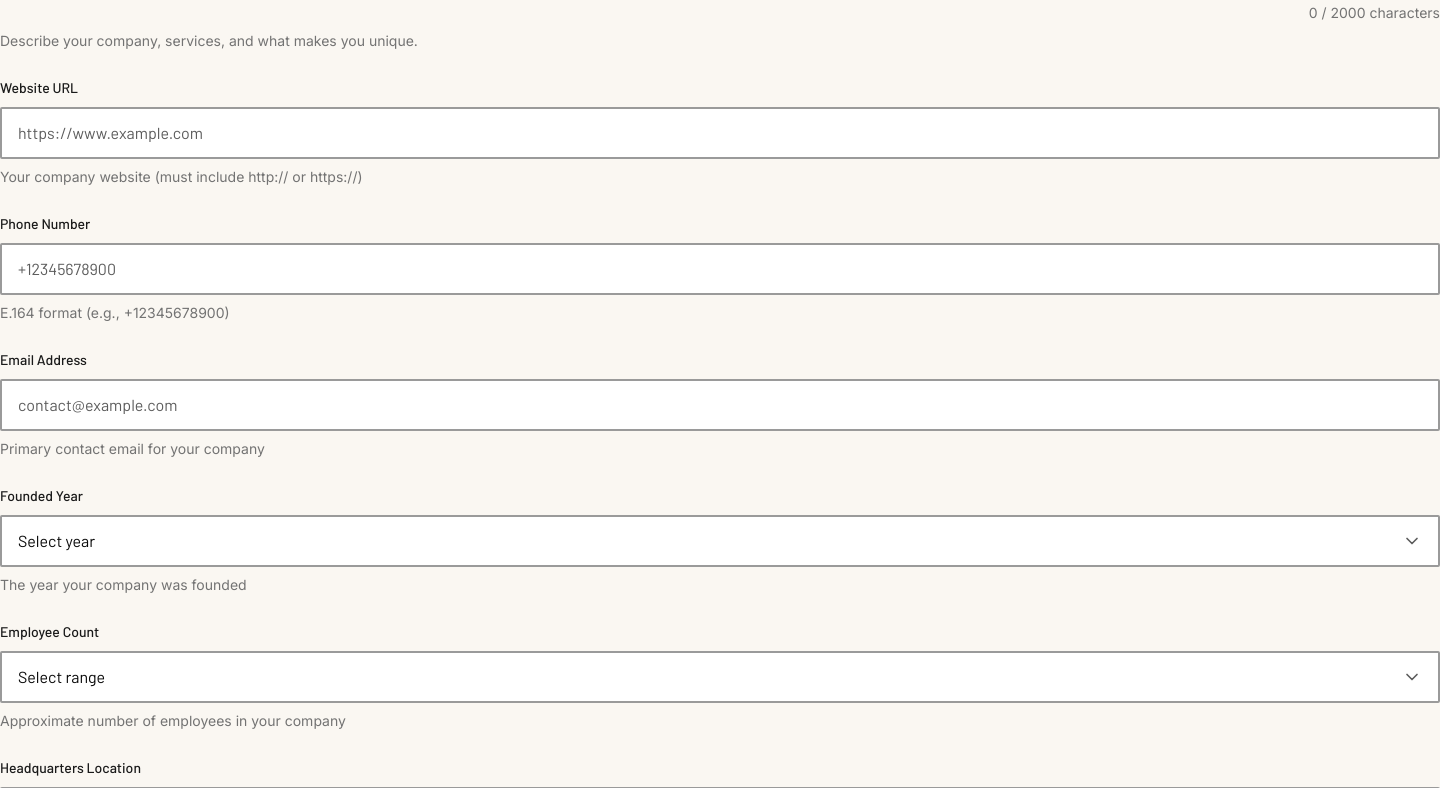
Test case: ProfileEditForm › Validation › should validate email format
(page scrolled)
Type "invalid-email" into the field labelled "Email Address" at [720, 405], box [0,379,1439,431]
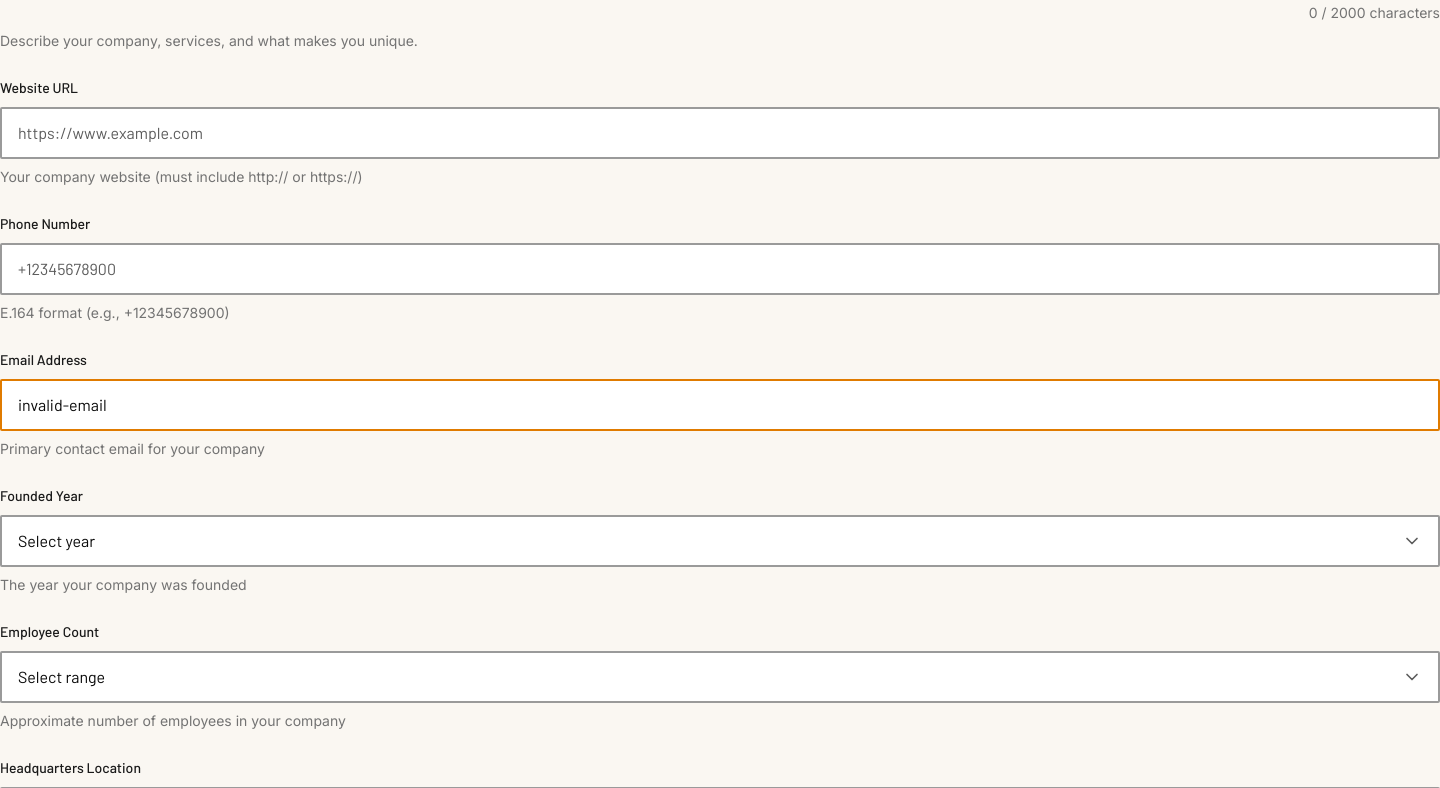
Press Tab
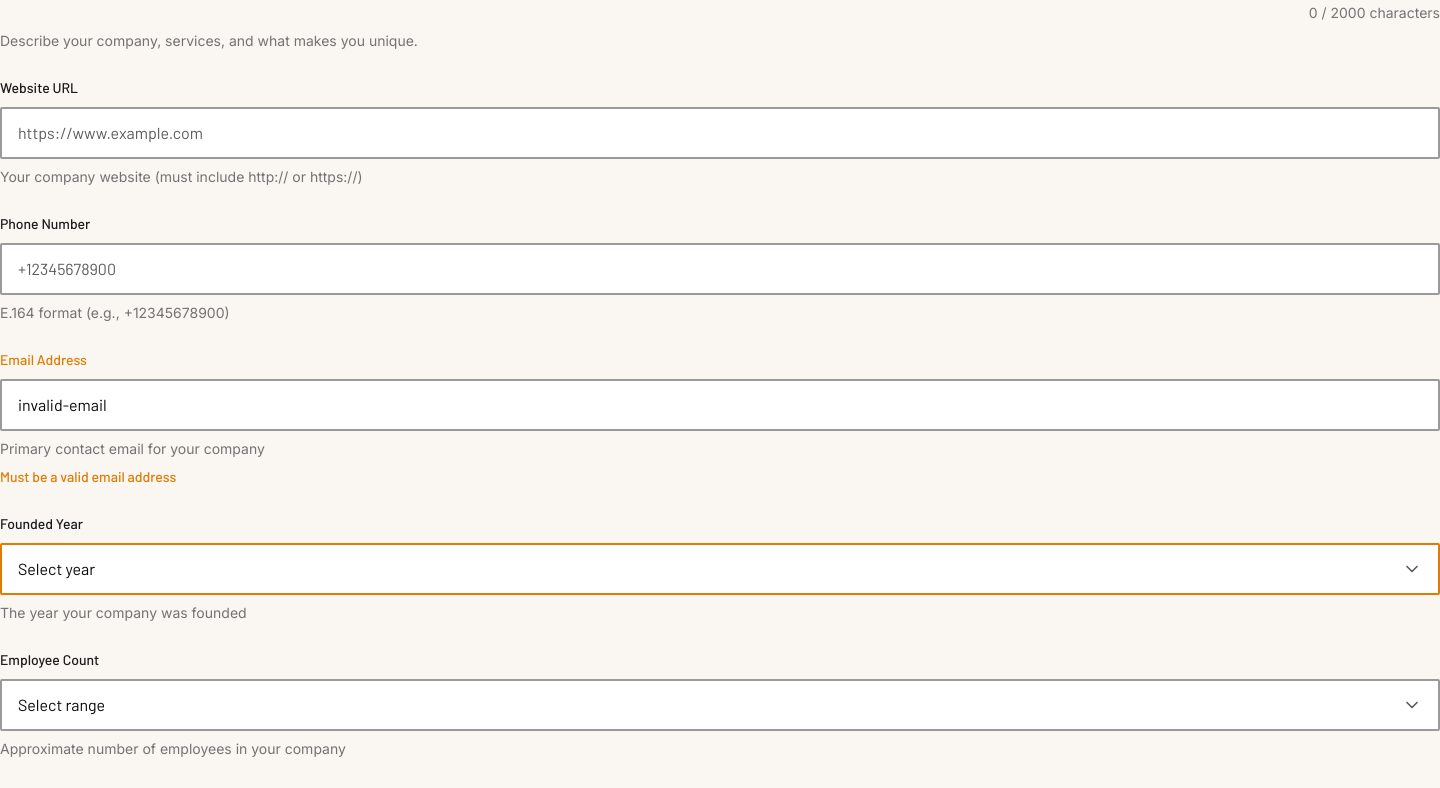
Check: the text "Must be a valid email address" is shown, box [0,468,176,485]
